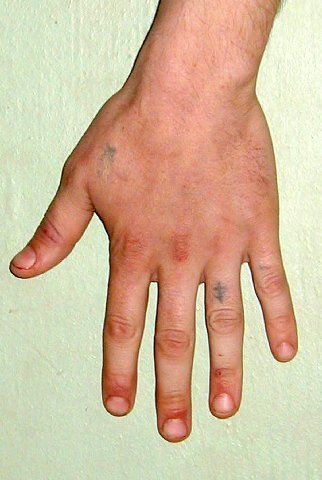tatu9_krest: (206, 282, 232, 304)
